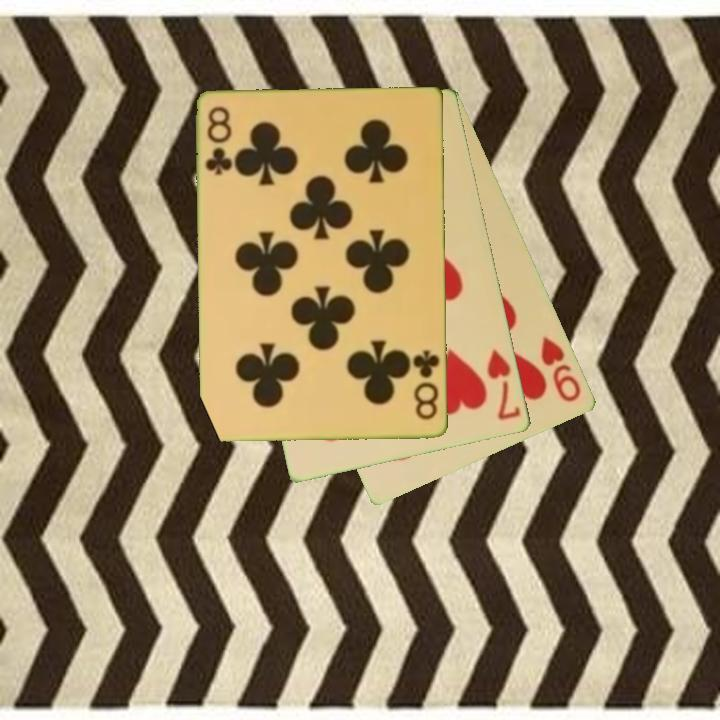7h: (484, 345, 524, 424)
8c: (410, 346, 443, 423), (203, 103, 235, 179)
9h: (538, 333, 584, 405)
